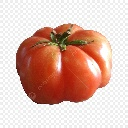tomato: (17, 23, 113, 104)
